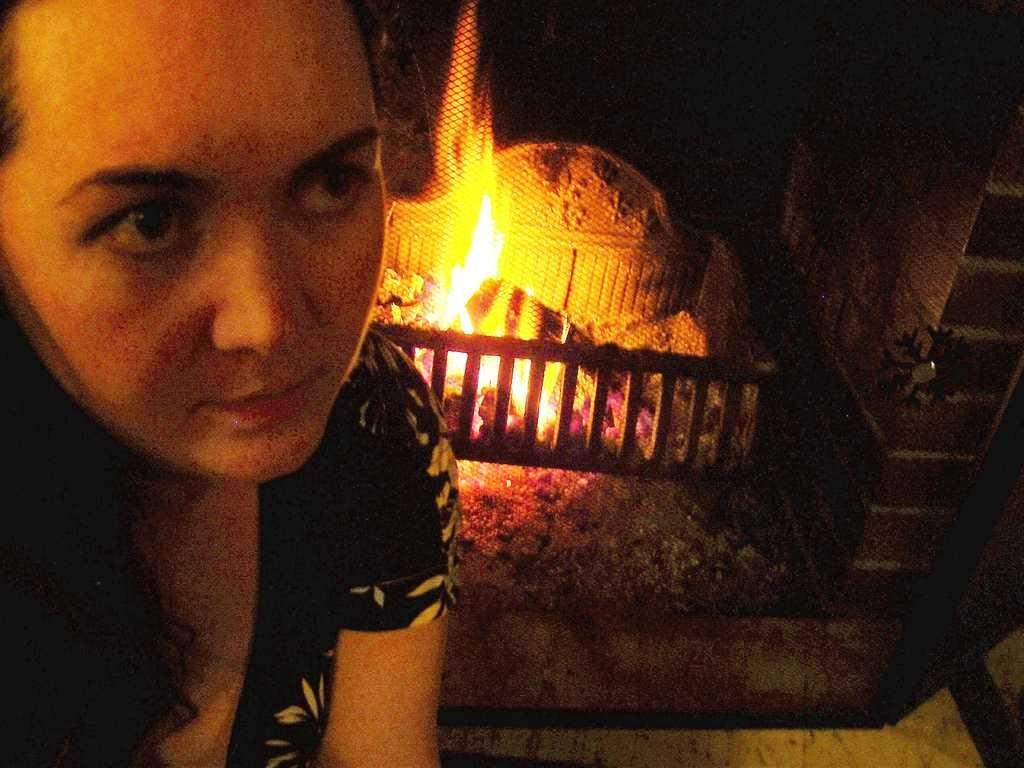fire: (427, 208, 507, 327)
